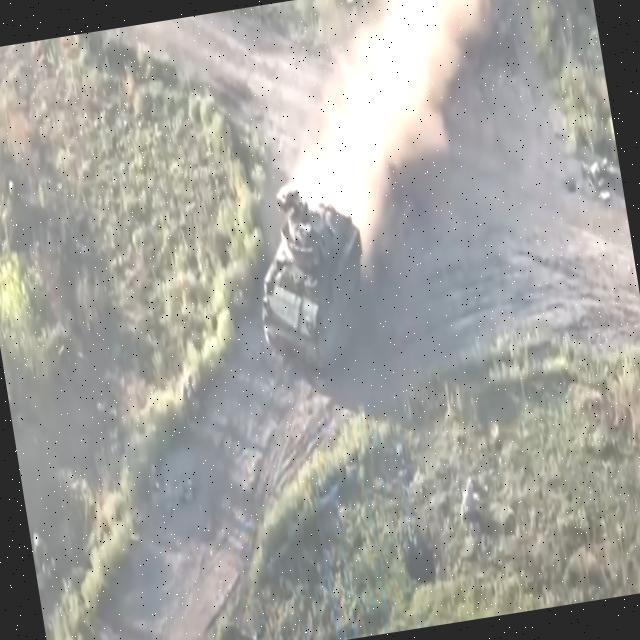AIFV: (240, 172, 385, 398)
